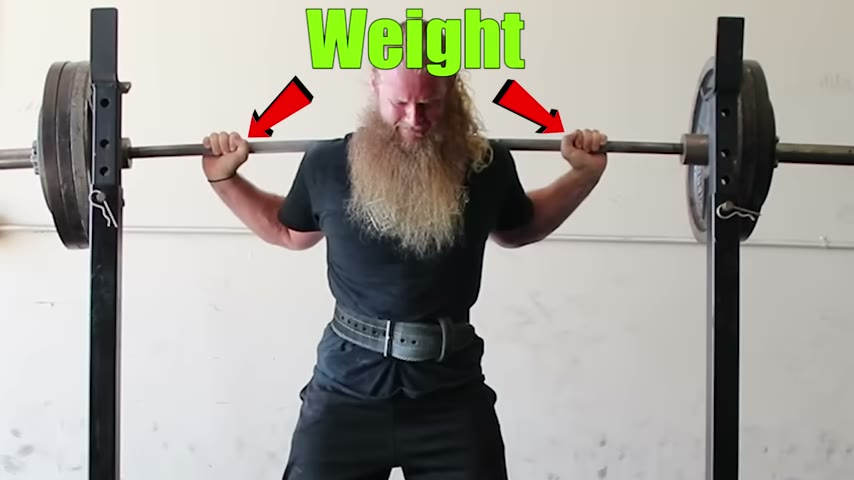barbell_plate_side: (688, 30, 779, 290)
